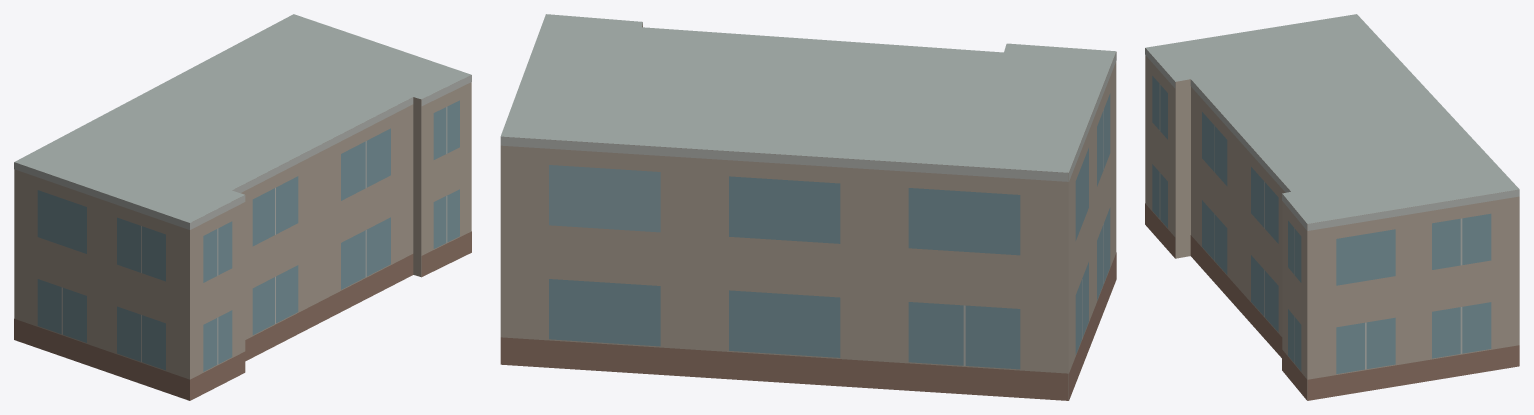
The model's file is survey-upis-32854553.glb.
3 views of the same model, side by side, from view 1: azimuth 30°, elevation 25°; view 2: azimuth 150°, elevation 25°; view 3: azimuth 270°, elevation 25° (orthographic). The views are drawn at different scales.
Visible parts, largest first — view 1: survey-upis-32854553.tmp; view 2: survey-upis-32854553.tmp; view 3: survey-upis-32854553.tmp.
Part boxes in pixels (left/top/right/bottom): survey-upis-32854553.tmp: left=14, top=14, right=471, bottom=400; survey-upis-32854553.tmp: left=500, top=14, right=1116, bottom=400; survey-upis-32854553.tmp: left=1145, top=14, right=1519, bottom=400.
Bounding box in the file's own units: 15.54 × 6.1 × 11.72.
